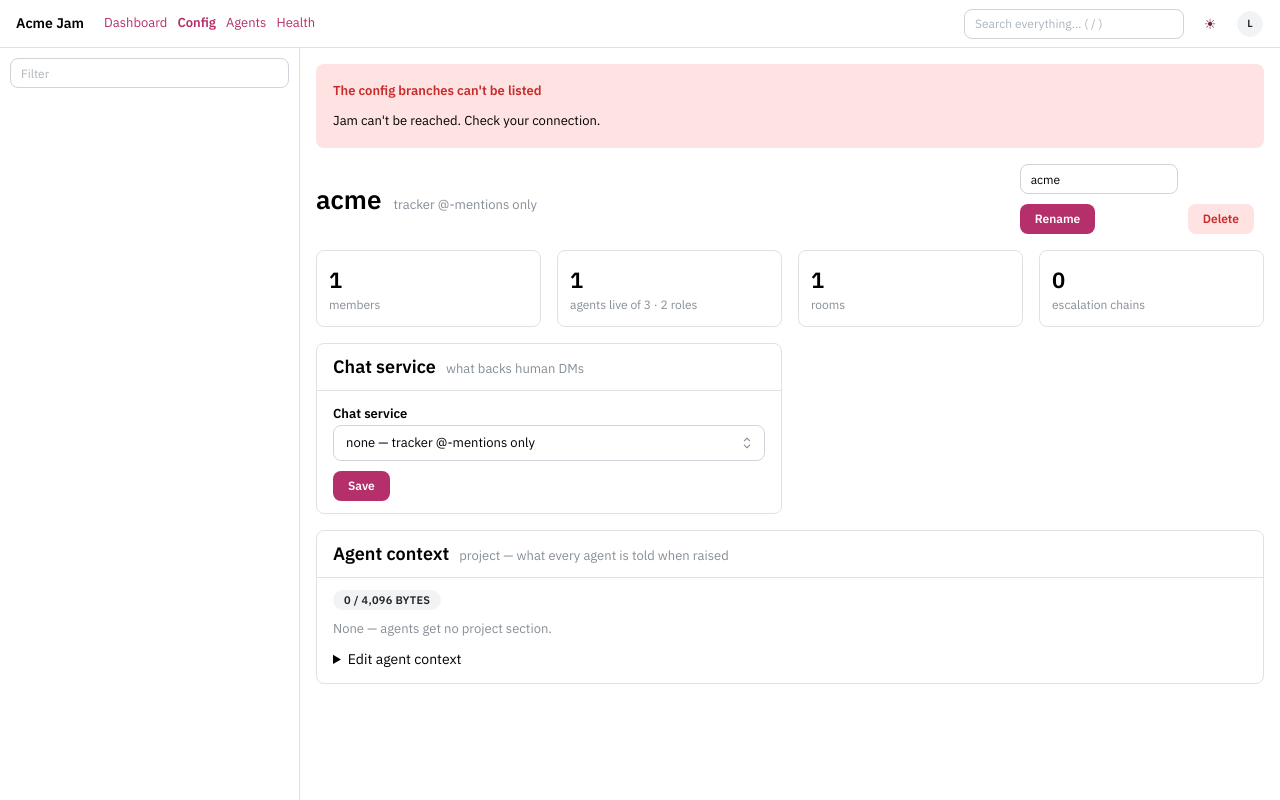
it: a project's overview › sets the chat service
The image size is (1280, 800).
Select "disc" in the dropdown labelled "Chat service" at [549, 443], box [333, 425, 765, 461]
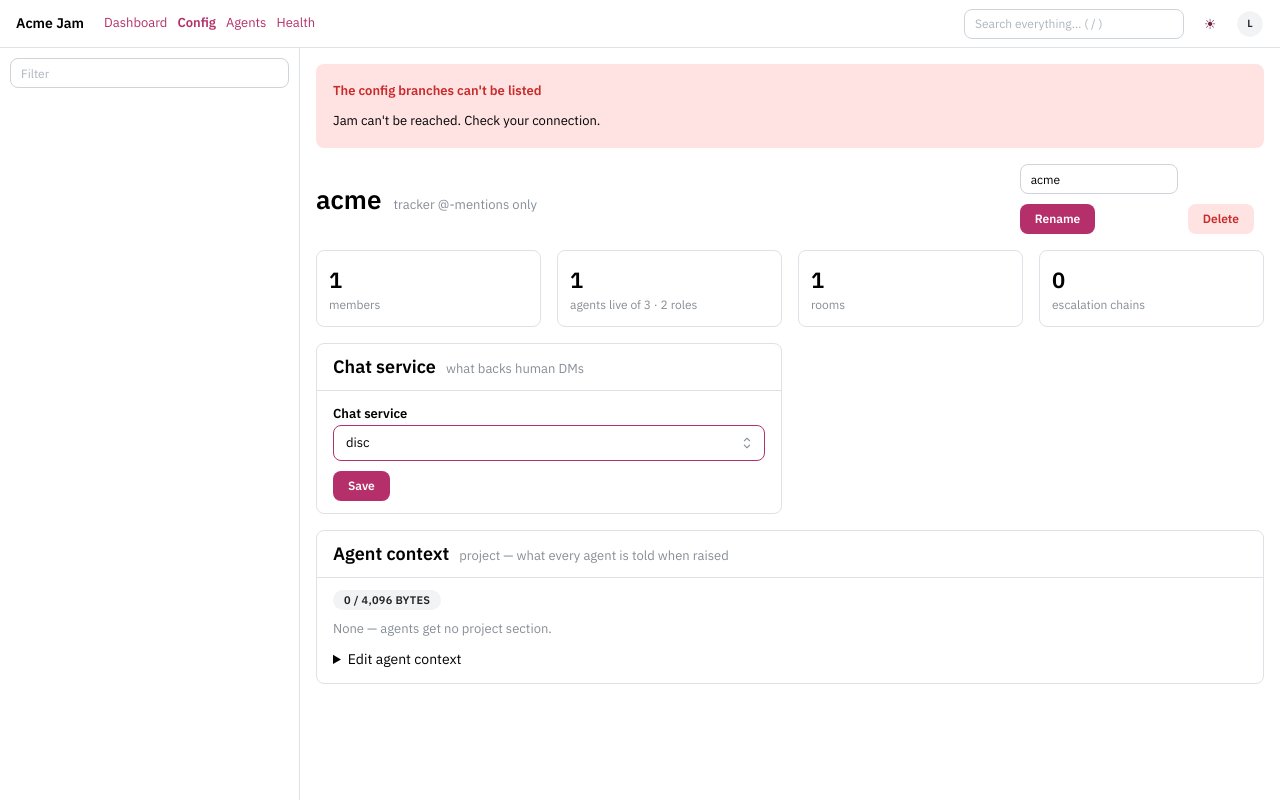
Click the button "Save" at [361, 486], box [333, 471, 390, 501]
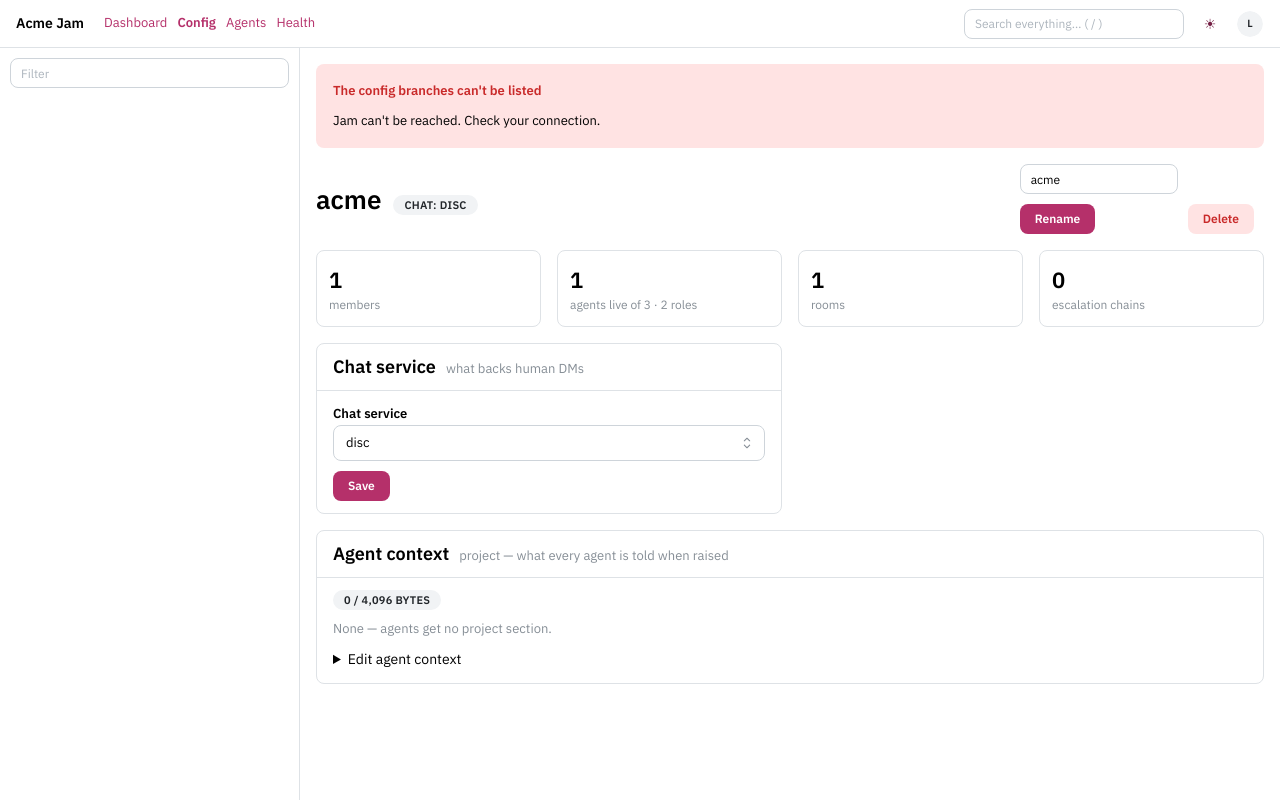
Check: the text "chat: disc" is shown, box [404, 196, 467, 214]
